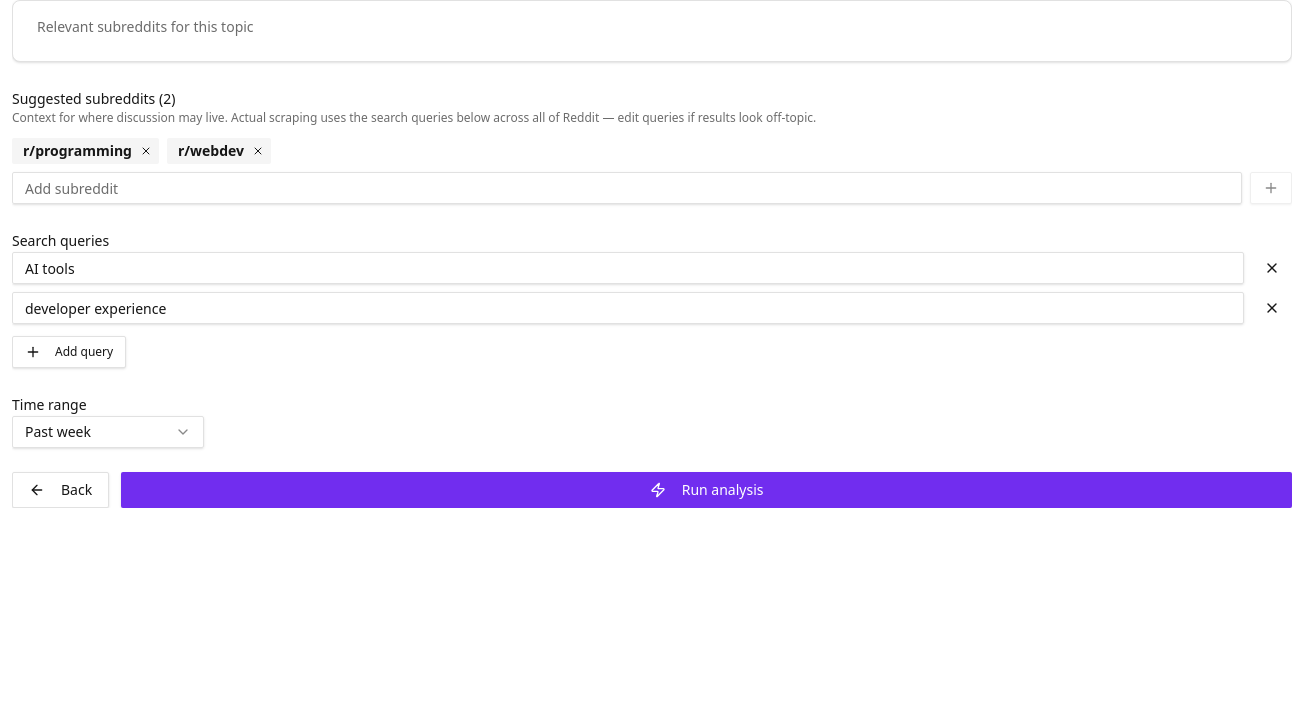
PlanReview › can add a new subreddit
Type "javascript" into the field with placeholder "Add subreddit" at point(627, 188), box 12,172 -> 1242,204
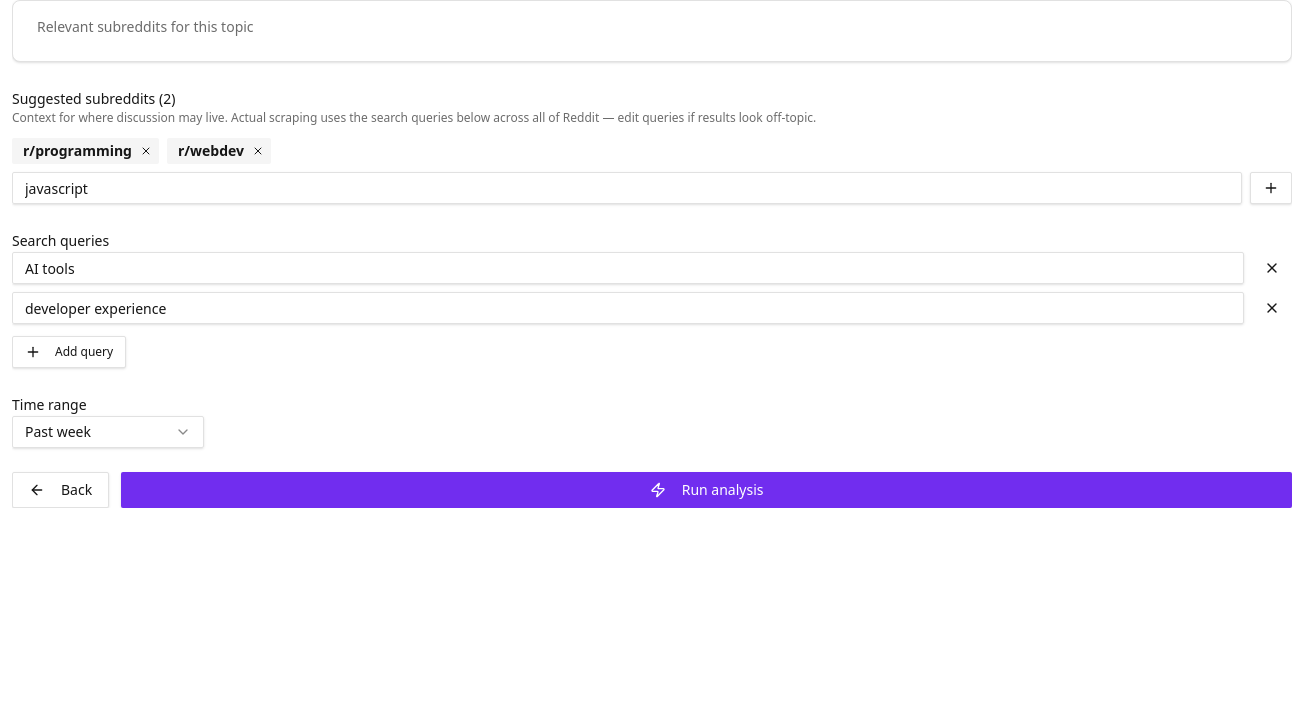
Click the 3rd button at point(1271, 188), box 1250,172 -> 1292,204
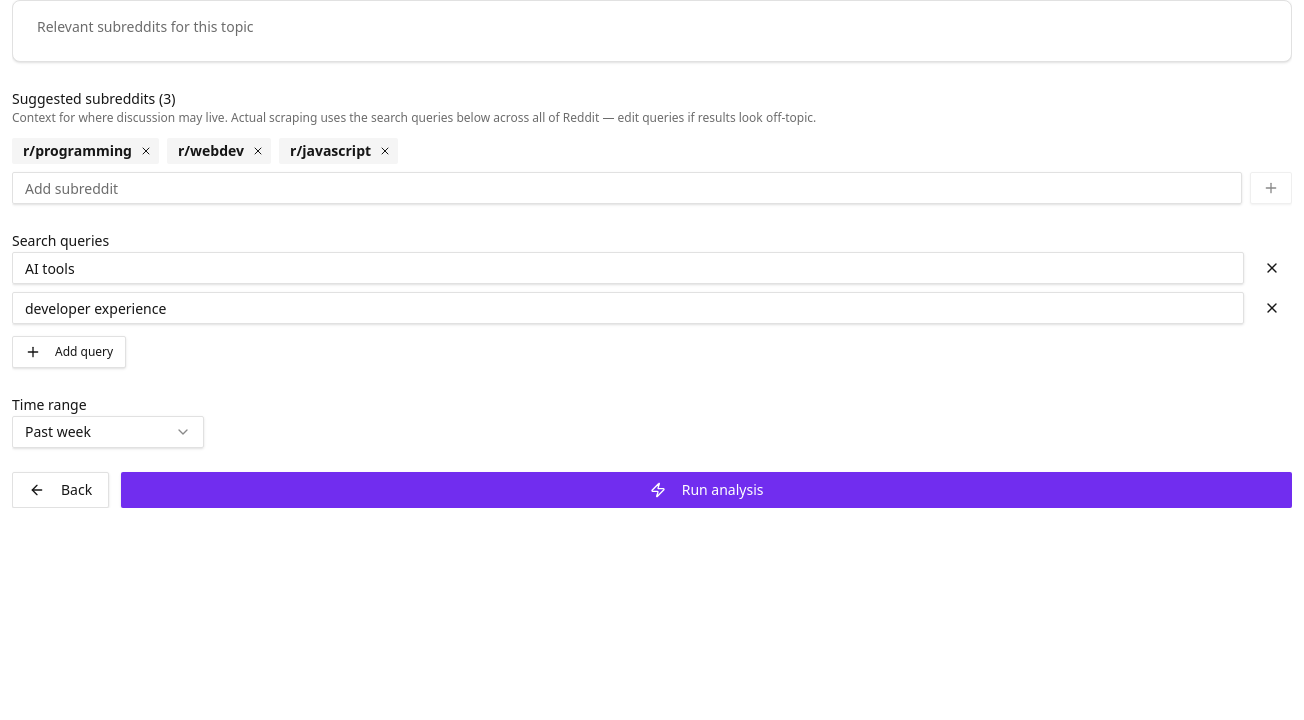
Expected: the text "r/javascript" is shown, 279,138 -> 398,164
